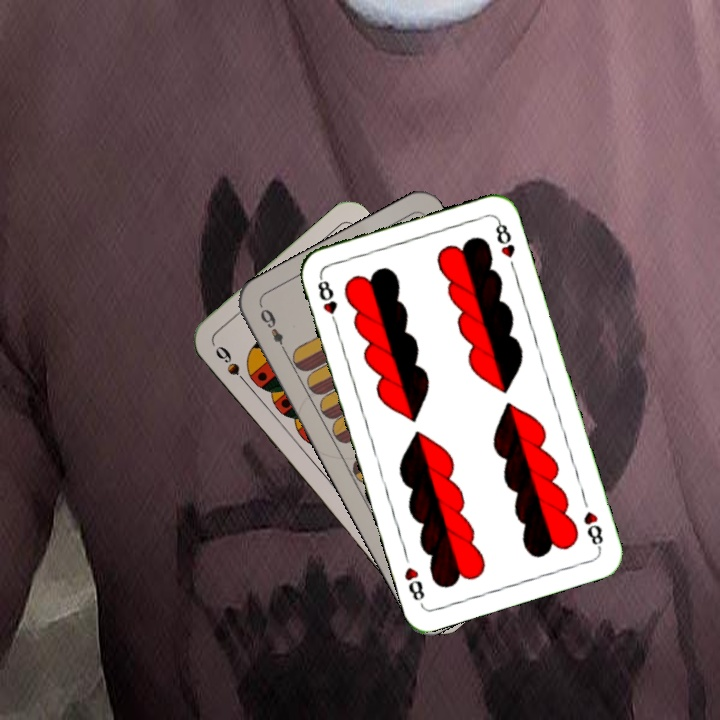E9: (256, 304, 290, 357)
H8: (313, 272, 341, 330), (579, 507, 606, 552)
S9: (210, 342, 254, 391)
